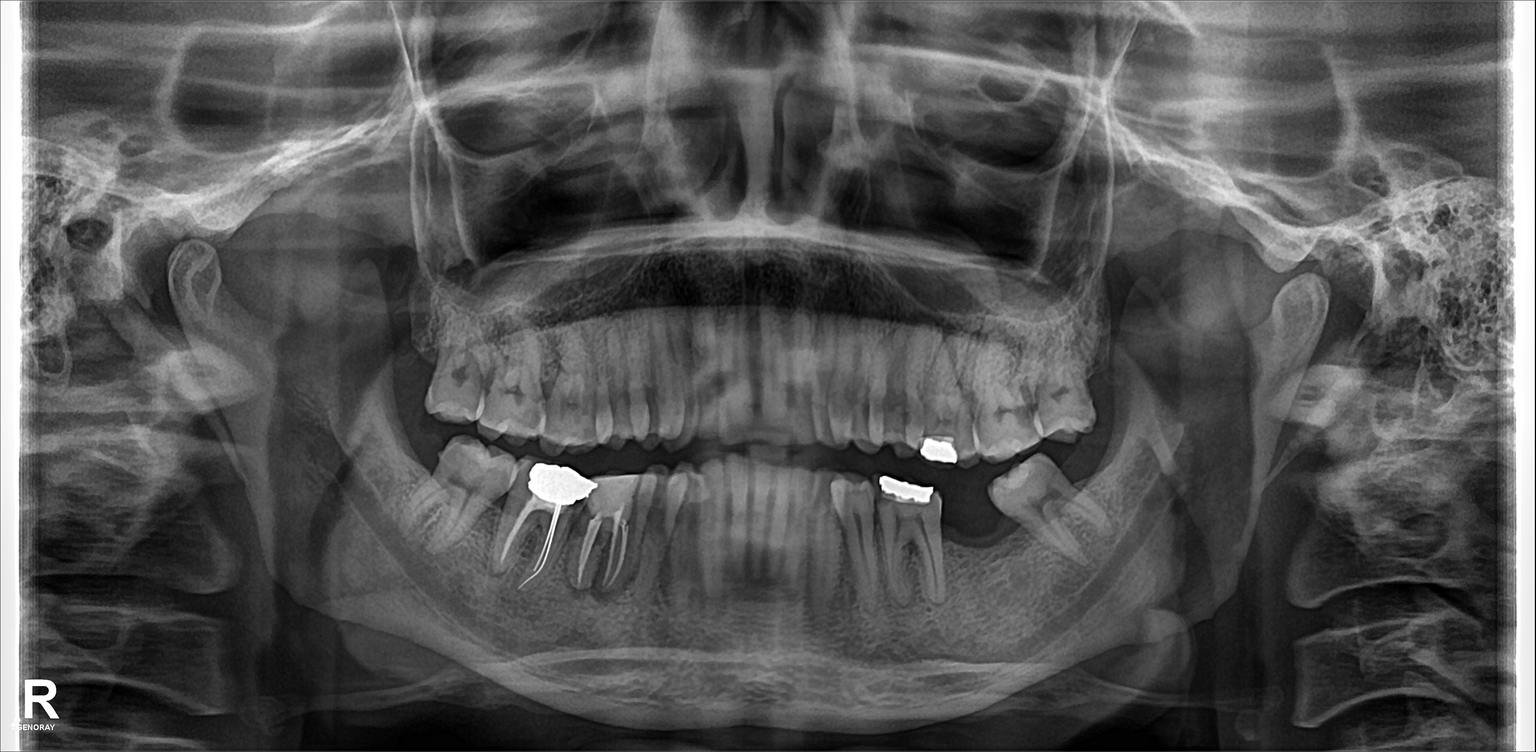Endodontically Treated Tooth: (514, 460, 571, 594), (577, 469, 630, 587)
Missing Tooth: (939, 484, 1000, 594), (382, 411, 437, 499), (382, 303, 434, 393), (1060, 450, 1104, 499)
